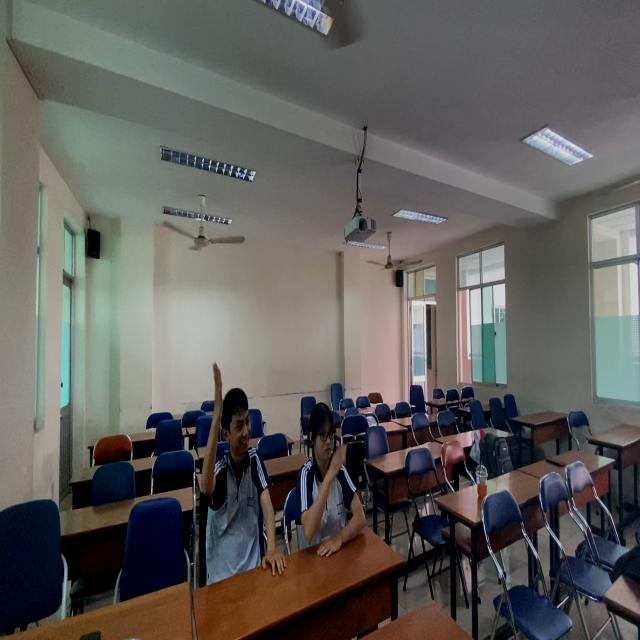raise_hand: (197, 356, 287, 587), (291, 402, 374, 550)
